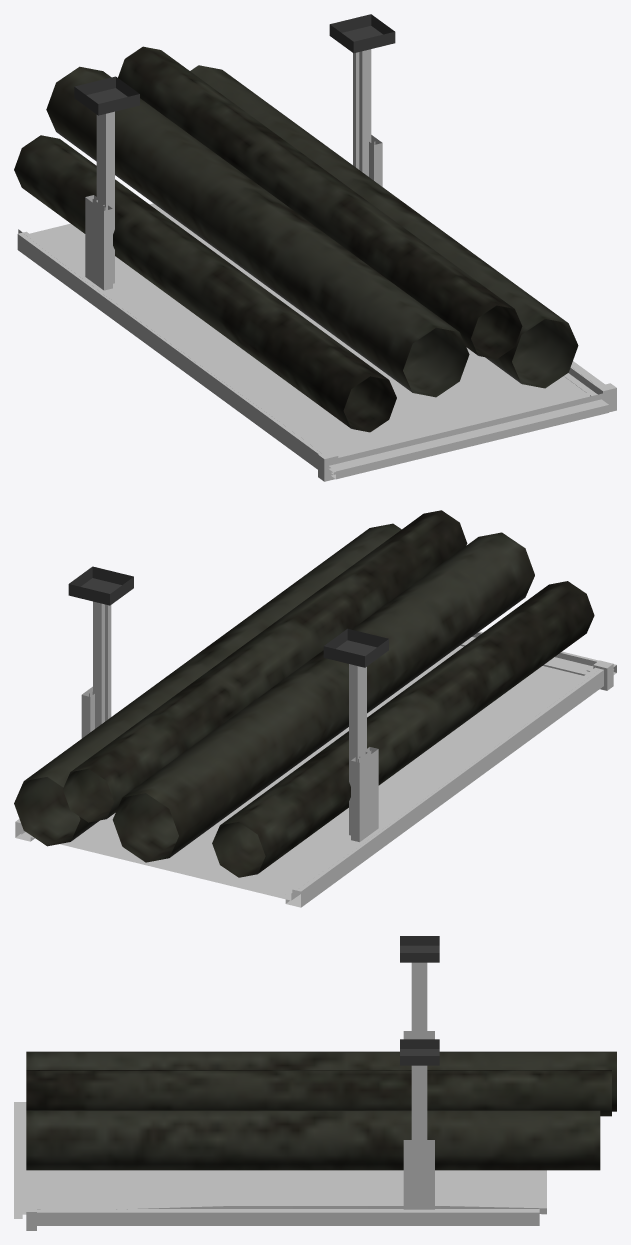
The model's file is ceiling_pipes_left_intersection.fbx.
The picture shows the model from 3 angles, top to bottom: view 1: azimuth 30°, elevation 25°; view 2: azimuth 150°, elevation 25°; view 3: azimuth 270°, elevation 25°; orthographic projection. The views are drawn at different scales.
Parts seen in each view (by area): view 1: ceiling_pipes_left_intersection; view 2: ceiling_pipes_left_intersection; view 3: ceiling_pipes_left_intersection.
Boxes of the visible parts, x1=… form: ceiling_pipes_left_intersection: x1=14, y1=14, x2=616, y2=481; ceiling_pipes_left_intersection: x1=14, y1=510, x2=616, y2=907; ceiling_pipes_left_intersection: x1=14, y1=936, x2=616, y2=1230.
Size of the model in its own units: 65.58 by 44.92 by 139.
